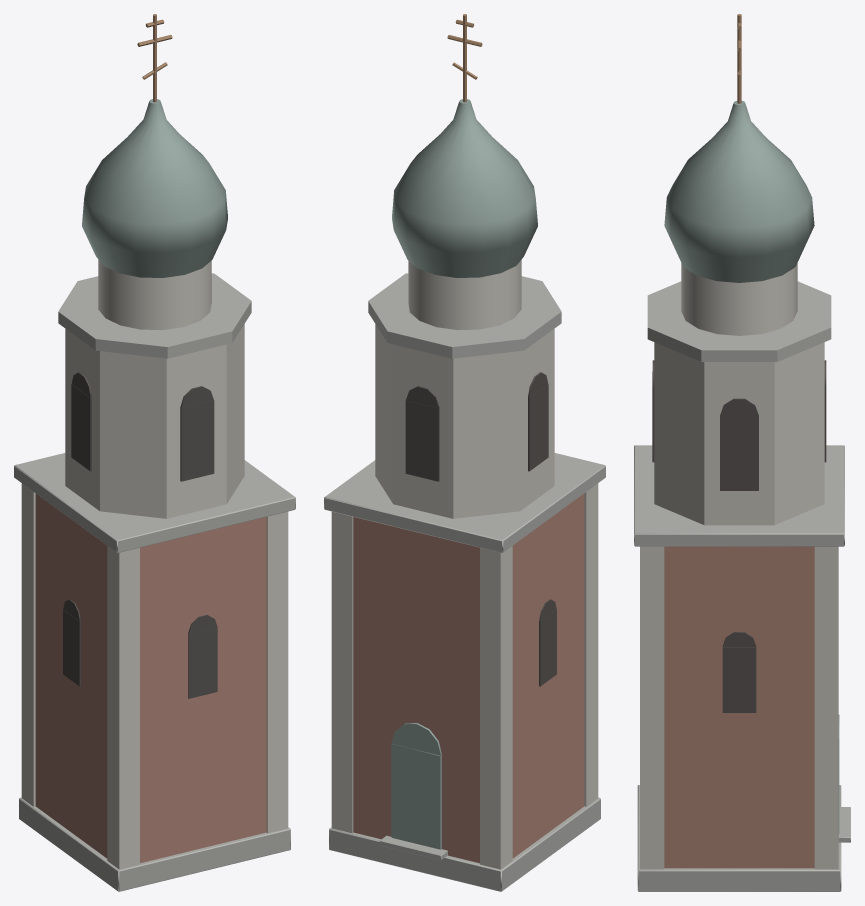
Rendered from steeple.glb.
The picture shows the model from 3 angles, left to right: view 1: azimuth 30°, elevation 25°; view 2: azimuth 150°, elevation 25°; view 3: azimuth 270°, elevation 25°; orthographic projection.
Parts seen in each view (by area): view 1: static; view 2: static; view 3: static.
Boxes of the visible parts, x1,y1,x2,y2 form: static: [14, 14, 295, 891]; static: [324, 14, 605, 891]; static: [634, 14, 850, 891].
Size of the model in its own units: 4.35 by 19 by 4.47.
